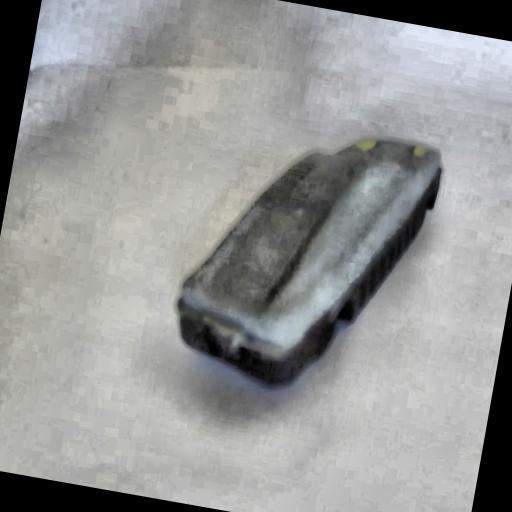normal_car: (160, 103, 448, 412)
